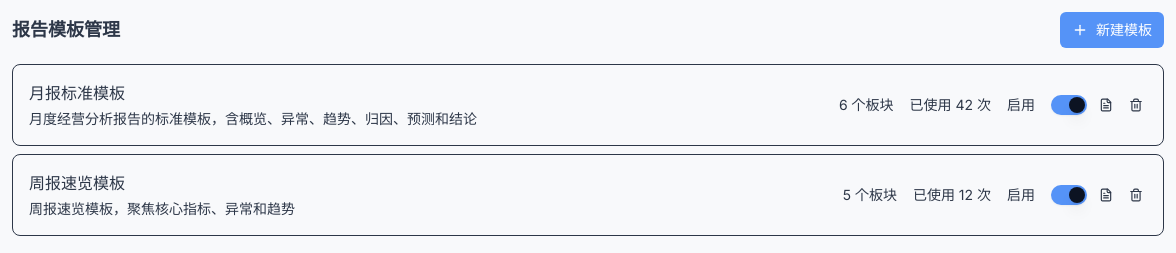
ReportTemplatesPage › toggles template enabled status
Click the switch in the row of "42".
click(1069, 105)  # box [1051,95,1087,115]
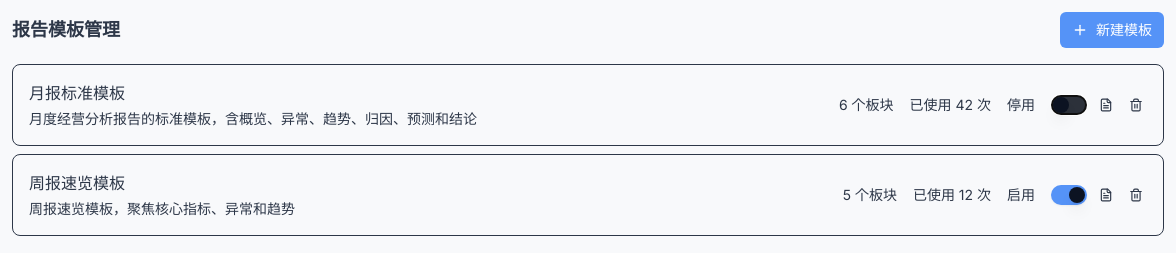
Now the switch next to "停用" is not checked, box [1051,95,1087,115]
Now the text "停用" is shown, box [1007,95,1035,115]
